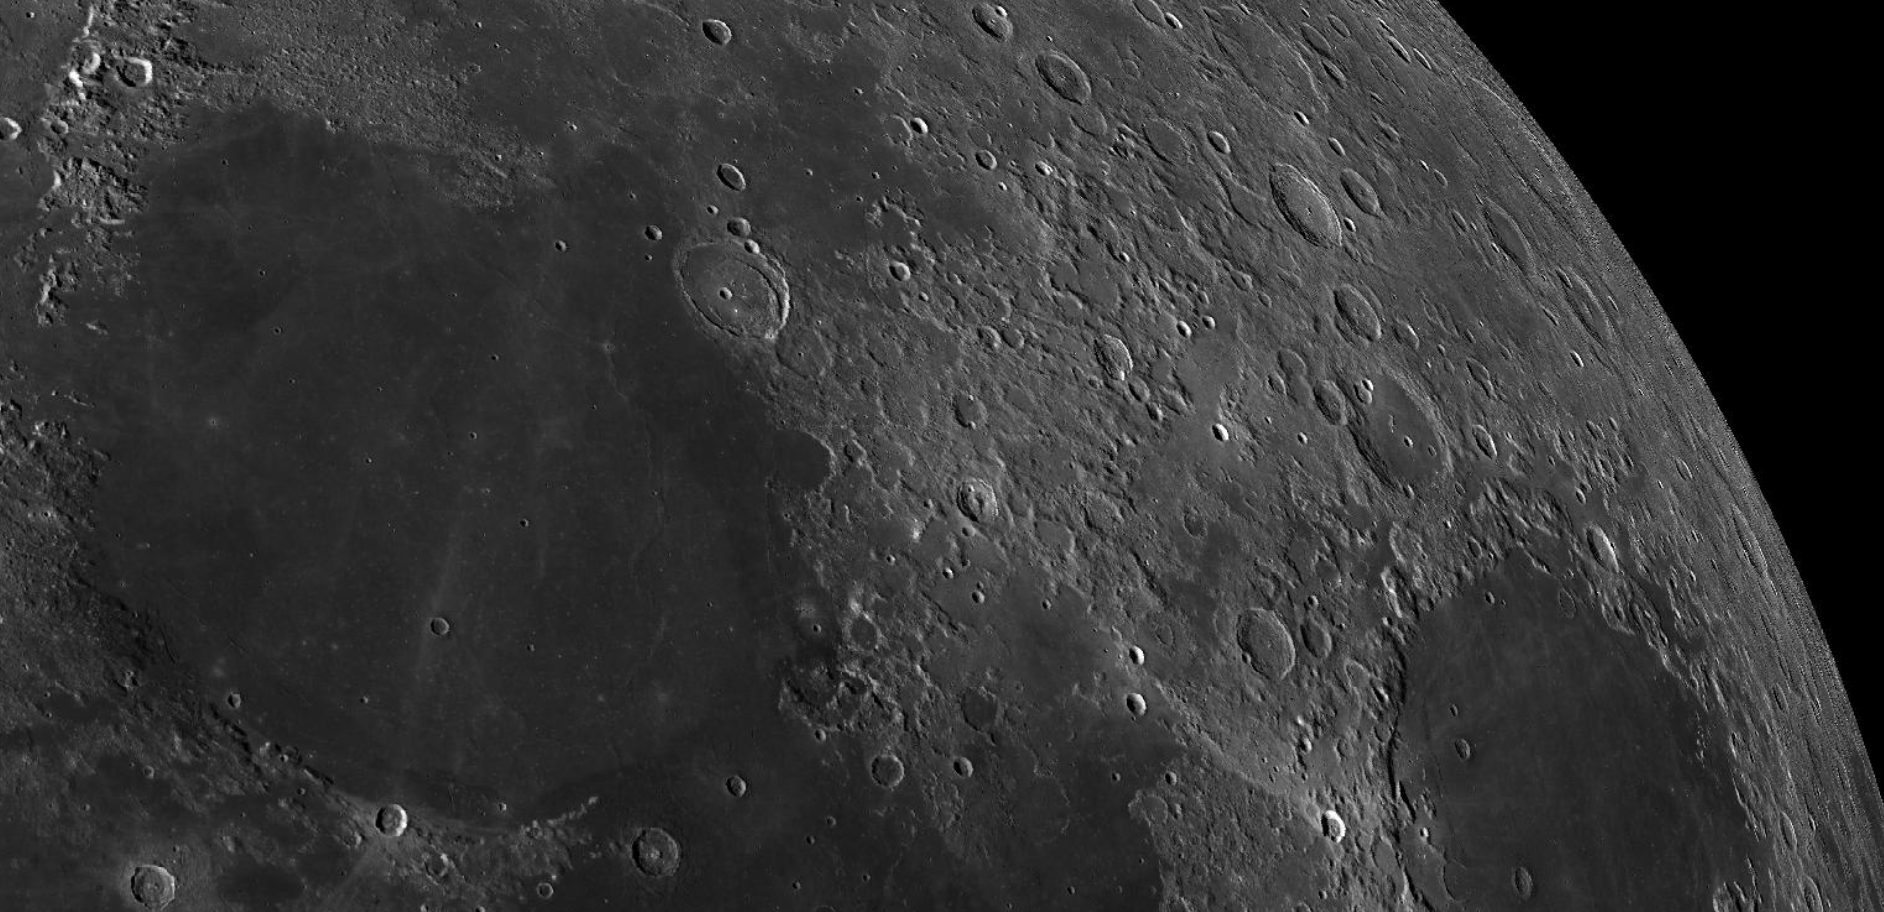crater: (28, 78, 782, 856), (664, 217, 819, 359), (1260, 150, 1347, 278), (1462, 174, 1548, 299), (1223, 594, 1302, 709), (661, 2, 785, 72), (106, 852, 198, 911), (1025, 41, 1103, 111), (946, 463, 1016, 526), (1083, 330, 1143, 387), (861, 747, 917, 803), (403, 606, 465, 651), (1439, 729, 1491, 773), (966, 141, 1010, 175), (1561, 336, 1594, 380)
